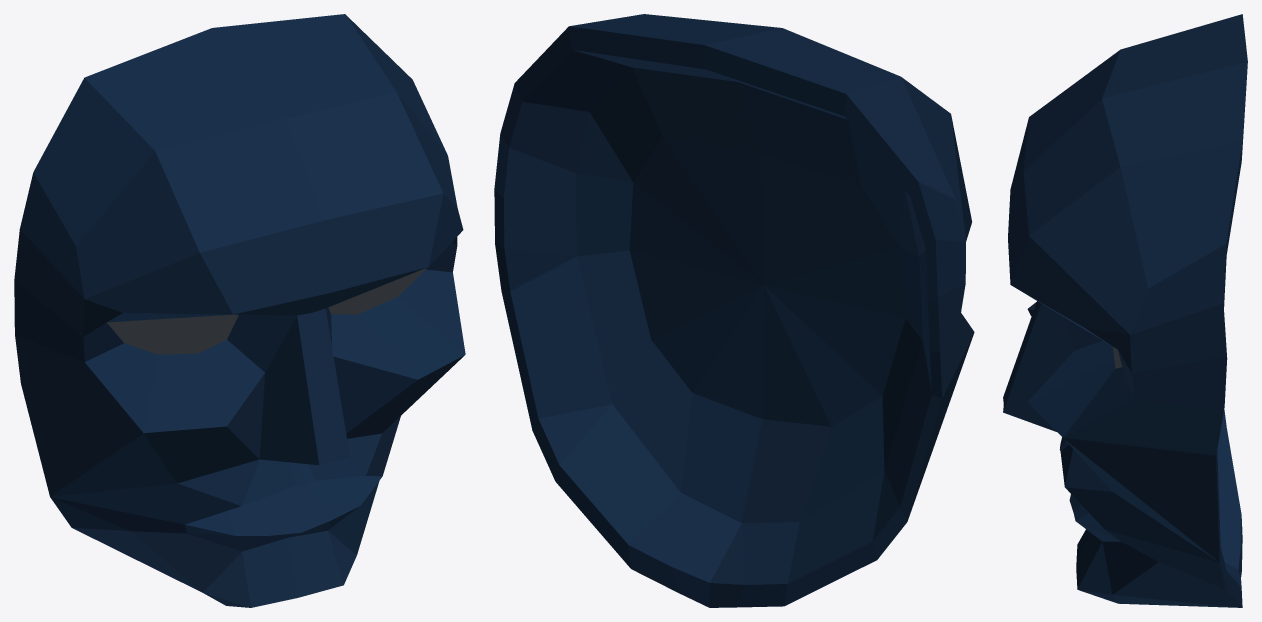
File: Triangl_face.fbx
3 views of the same model, side by side, from view 1: azimuth 30°, elevation 25°; view 2: azimuth 150°, elevation 25°; view 3: azimuth 270°, elevation 25° (orthographic). The views are drawn at different scales.
Parts seen in each view (by area): view 1: Triangl_face; view 2: Triangl_face; view 3: Triangl_face.
Boxes of the visible parts, box(x1,y1,x2,y2) form: Triangl_face: box(14, 14, 465, 607); Triangl_face: box(494, 14, 974, 607); Triangl_face: box(1003, 14, 1247, 607).
Bounding box in the file's own units: 0.5153 × 0.6263 × 0.2615.
